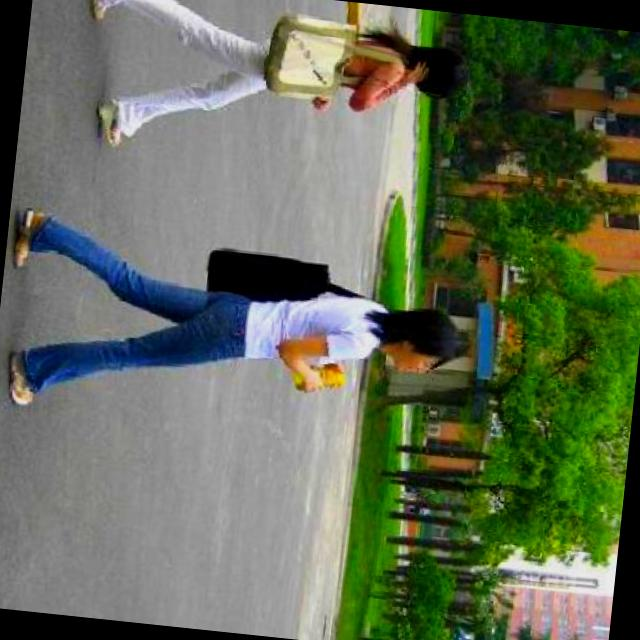Person: (0, 197, 474, 460), (58, 0, 480, 186)
